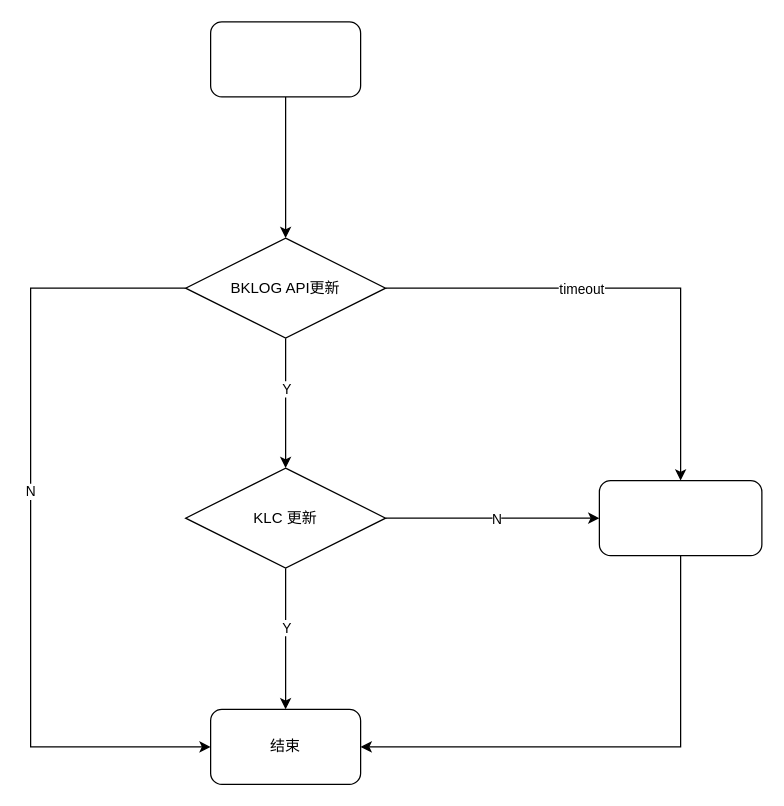
This 784x806 diagram has some shape labels left out. Here are the shapes that lost their labels. From the top down, the centre of each, then its label:
At [285,59]: "开始".
At [680,517]: "生成check任务(update)".
